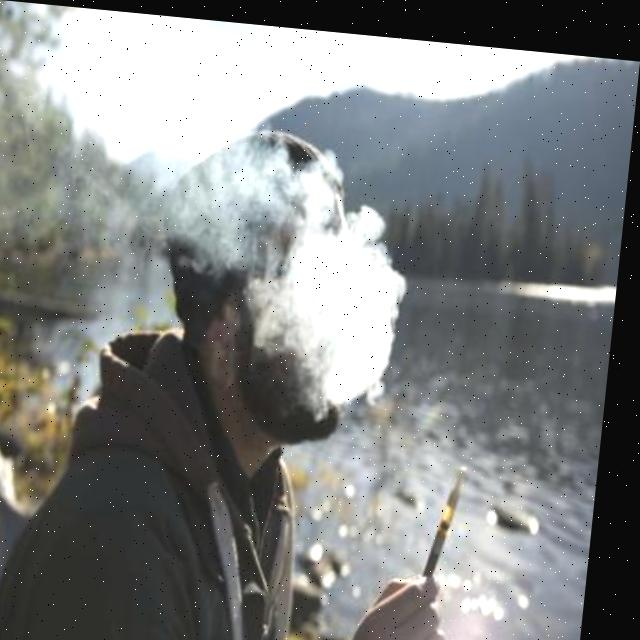vape: (434, 455, 478, 570)
